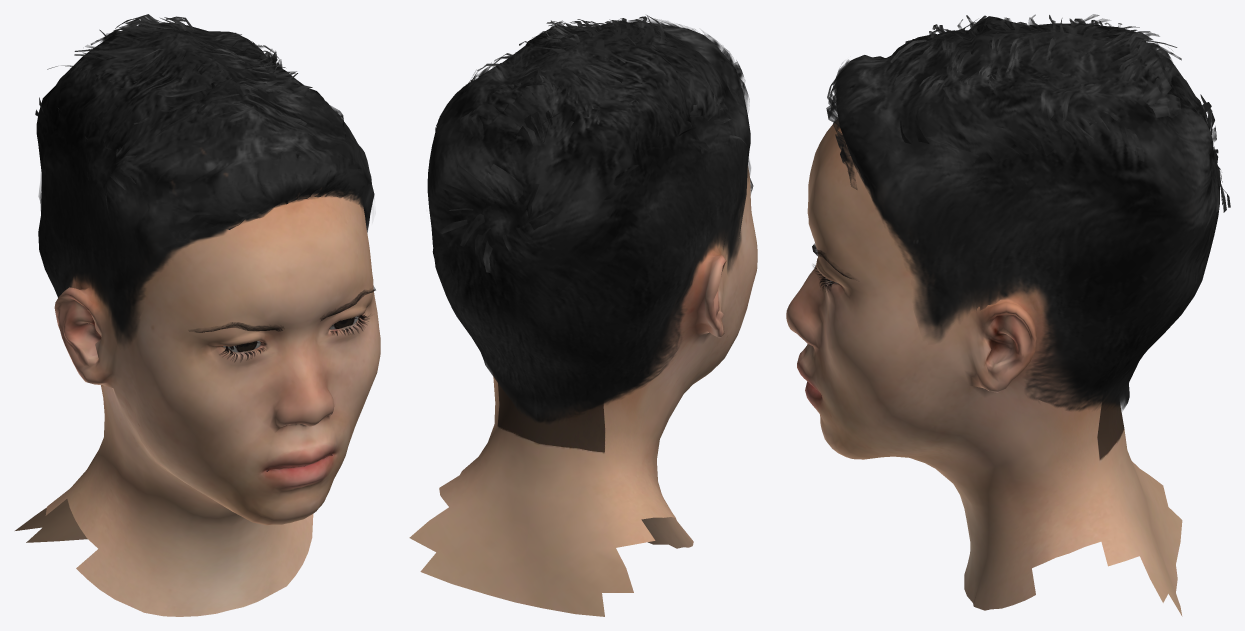
The model's file is patient06.glb.
The picture shows the model from 3 angles, left to right: view 1: azimuth 30°, elevation 25°; view 2: azimuth 150°, elevation 25°; view 3: azimuth 270°, elevation 25°; orthographic projection. The views are drawn at different scales.
Visible parts, largest first — view 1: jo_myeolchi.body, jo_myeolchi.short01, jo_myeolchi.eyebrow003, jo_myeolchi.eyelashes01; view 2: jo_myeolchi.short01, jo_myeolchi.body; view 3: jo_myeolchi.short01, jo_myeolchi.body.
Boxes of the visible parts, x1=… form: jo_myeolchi.body: x1=15, y1=151, x2=380, y2=616; jo_myeolchi.short01: x1=35, y1=14, x2=374, y2=346; jo_myeolchi.eyebrow003: x1=189, y1=286, x2=375, y2=332; jo_myeolchi.eyelashes01: x1=219, y1=314, x2=369, y2=362; jo_myeolchi.short01: x1=427, y1=15, x2=750, y2=423; jo_myeolchi.body: x1=409, y1=166, x2=757, y2=616; jo_myeolchi.short01: x1=826, y1=14, x2=1230, y2=411; jo_myeolchi.body: x1=786, y1=120, x2=1182, y2=616.
Bounding box in the file's own units: 0.1716 × 0.3123 × 0.227.
8 materials, 7 textured.
